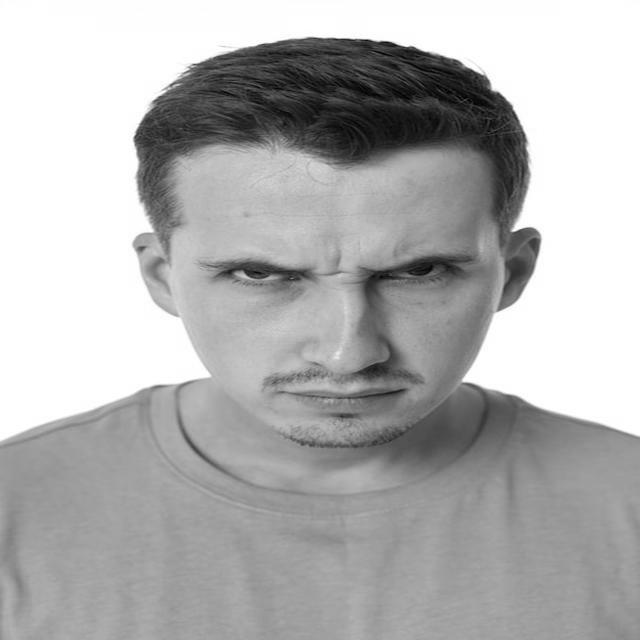Angry: (168, 146, 505, 450)
